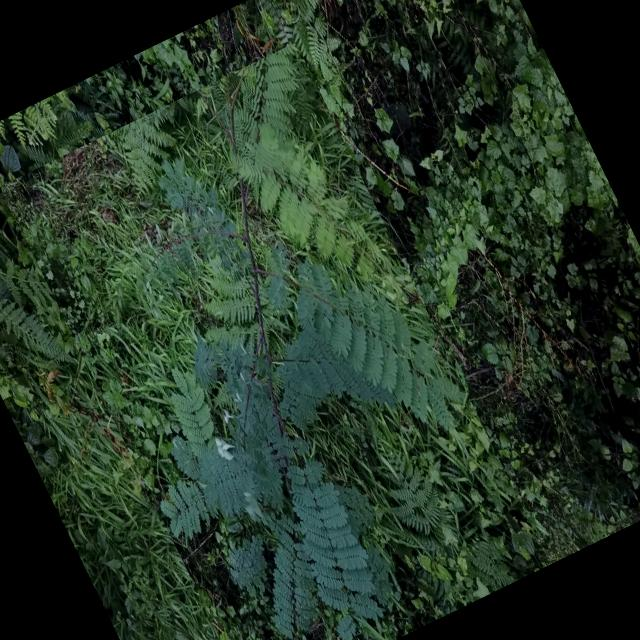Mysore-Thorn-Weed: (0, 42, 550, 640)
